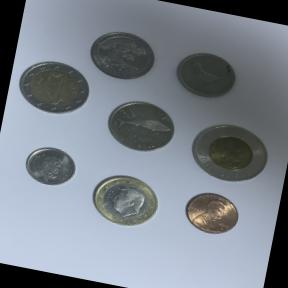1 Euro-B: (80, 163, 169, 236)
2 Euro-B: (12, 52, 95, 122)
Canada-10cent-B: (17, 138, 83, 194)
Canada-2Dollar-B: (180, 109, 280, 195)
Croatia-2Kune-B: (96, 91, 182, 164)
US-1cent-B: (174, 183, 247, 244)
US-25cent-B: (83, 24, 163, 88)
